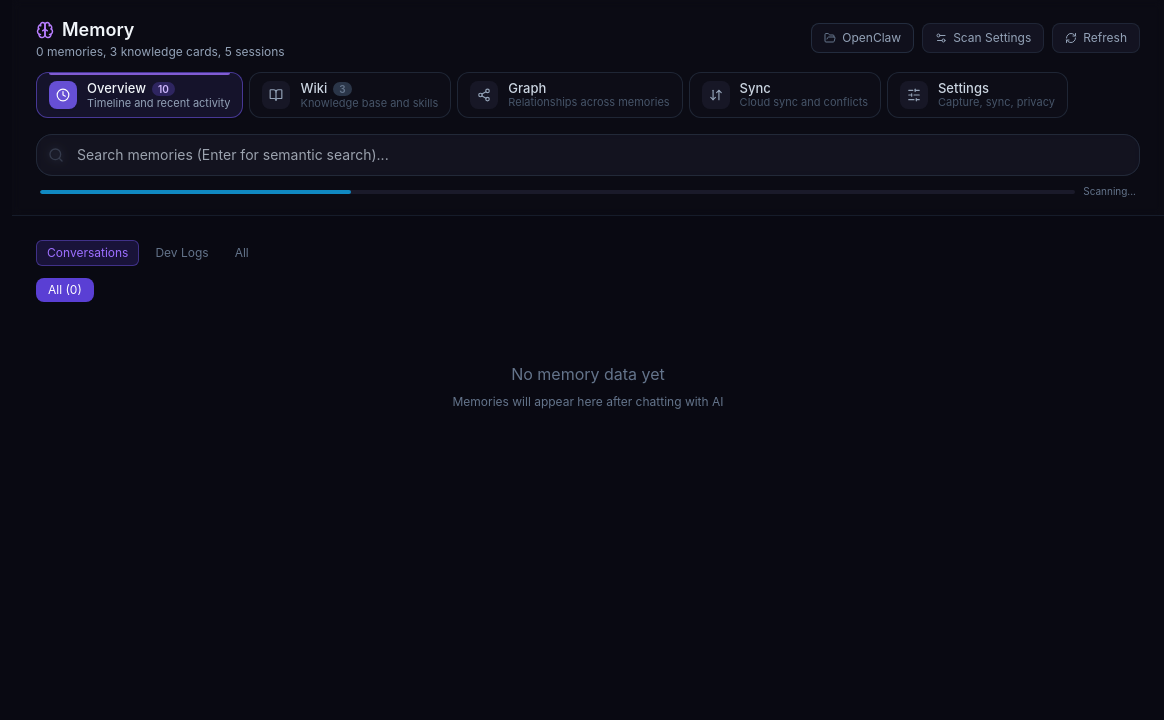
Test: Memory Page (user flows) › flow: shows real knowledge cards in Wiki tab when daemon is connected
The image size is (1164, 720).
Note: Switch to Wiki tab
Click the text "Wiki": coordinates (314, 88) [300, 82, 327, 95]
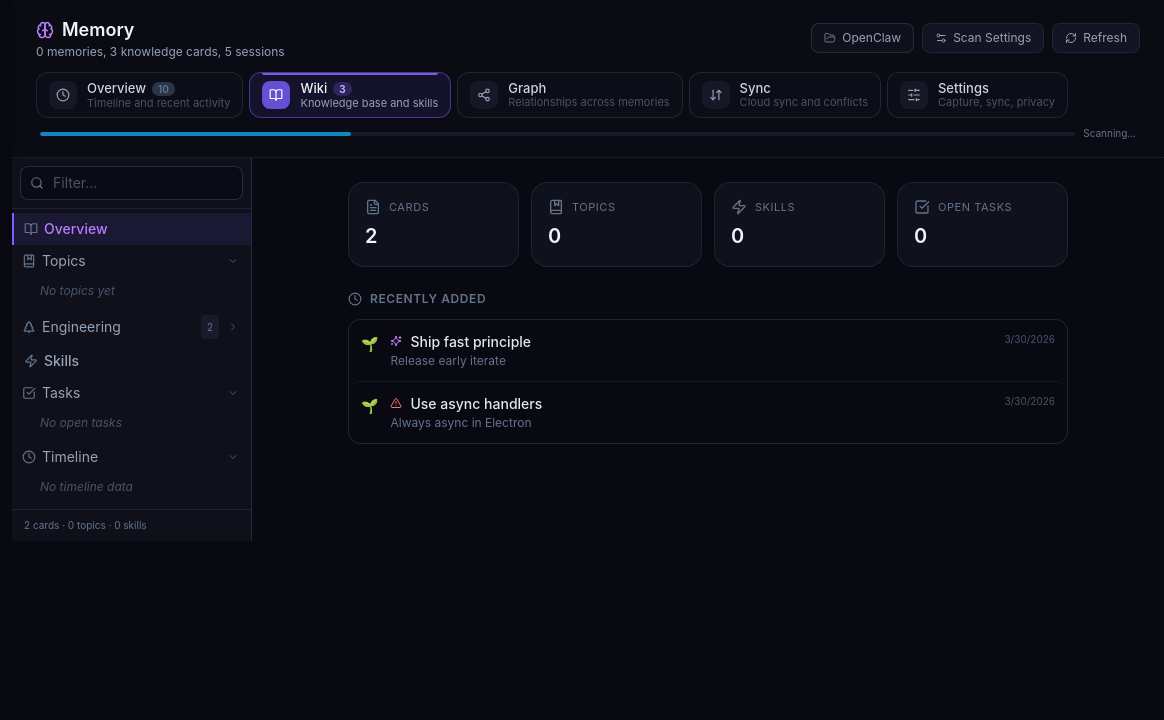
Expected: the text "Use async handlers" is shown, [410, 394, 542, 413]
Expected: the text "Ship fast principle" is shown, [410, 332, 531, 351]
